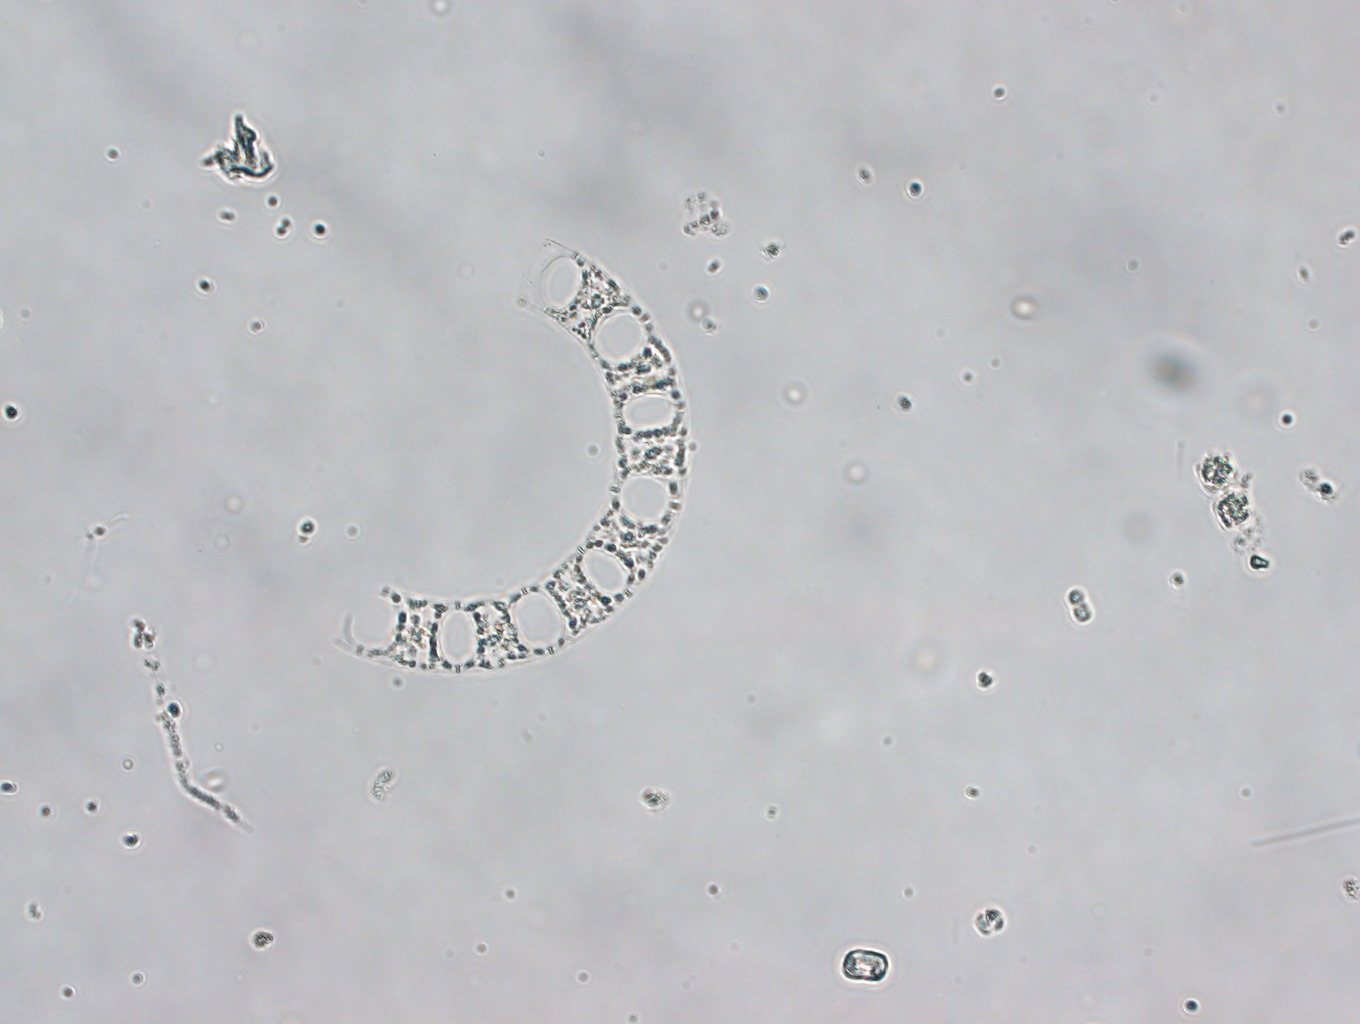eucampia: (323, 222, 695, 680)
